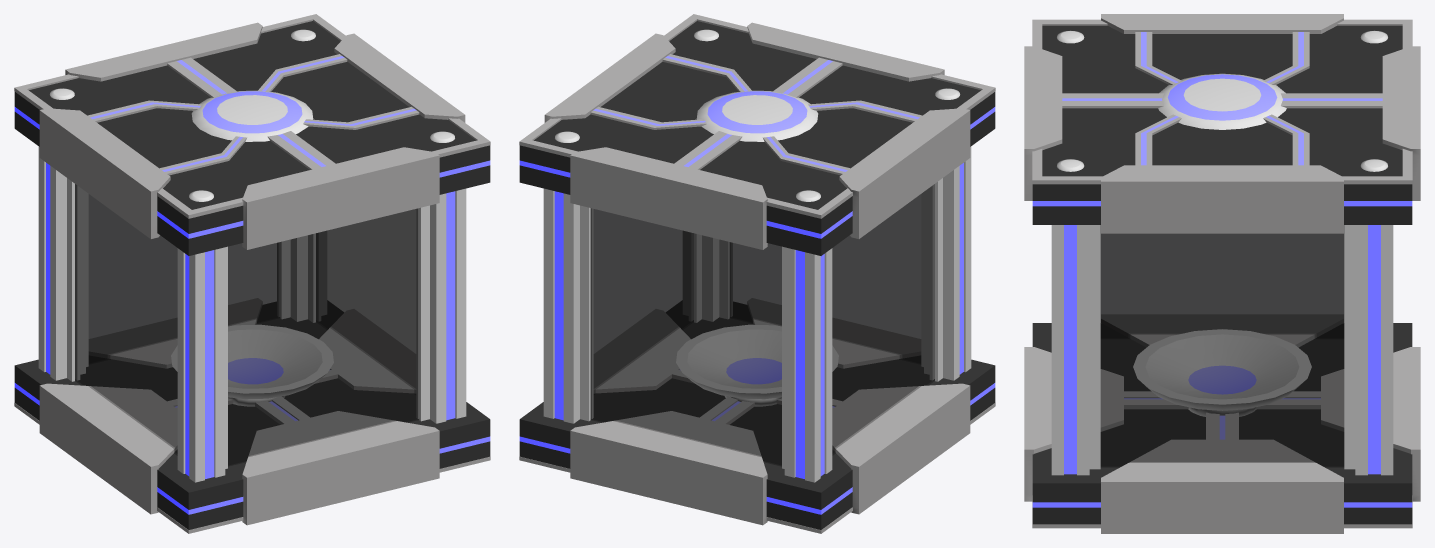
The model's file is box ver2.fbx.
The picture shows the model from 3 angles, left to right: view 1: azimuth 30°, elevation 25°; view 2: azimuth 150°, elevation 25°; view 3: azimuth 270°, elevation 25°; orthographic projection. The views are drawn at different scales.
Parts seen in each view (by area): view 1: box_ver2; view 2: box_ver2; view 3: box_ver2.
Part boxes in pixels (bbox=[...]): box_ver2: bbox=[14, 14, 490, 533]; box_ver2: bbox=[519, 14, 995, 533]; box_ver2: bbox=[1024, 14, 1420, 533].
Bounding box in the file's own units: 10.43 × 10.5 × 10.43.
